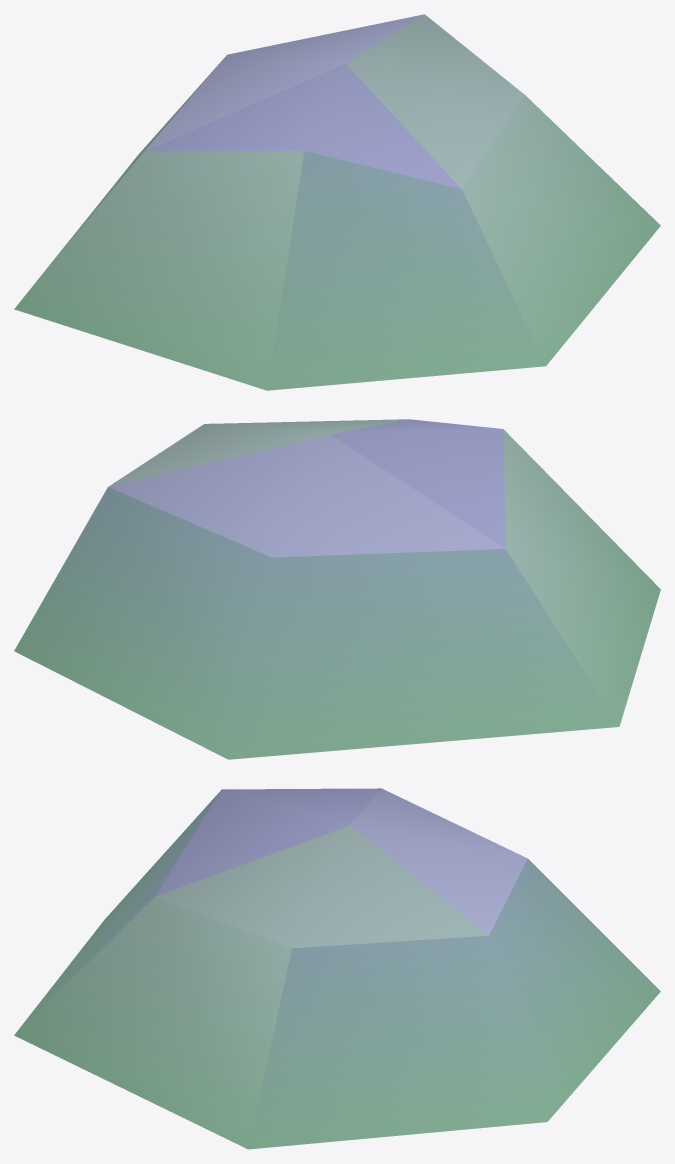
The model's file is bluebell_patch_c_far.glb.
3 views of the same model, one above another, from view 1: azimuth 30°, elevation 25°; view 2: azimuth 150°, elevation 25°; view 3: azimuth 270°, elevation 25° (orthographic). The views are drawn at different scales.
Visible parts, largest first — view 1: soft; view 2: soft; view 3: soft.
Boxes of the visible parts, box(x1,y1,x2,y2) form: soft: box(14, 14, 660, 390); soft: box(14, 419, 660, 759); soft: box(14, 788, 660, 1149).
Bounding box in the file's own units: 0.6988 × 0.222 × 0.6757.
